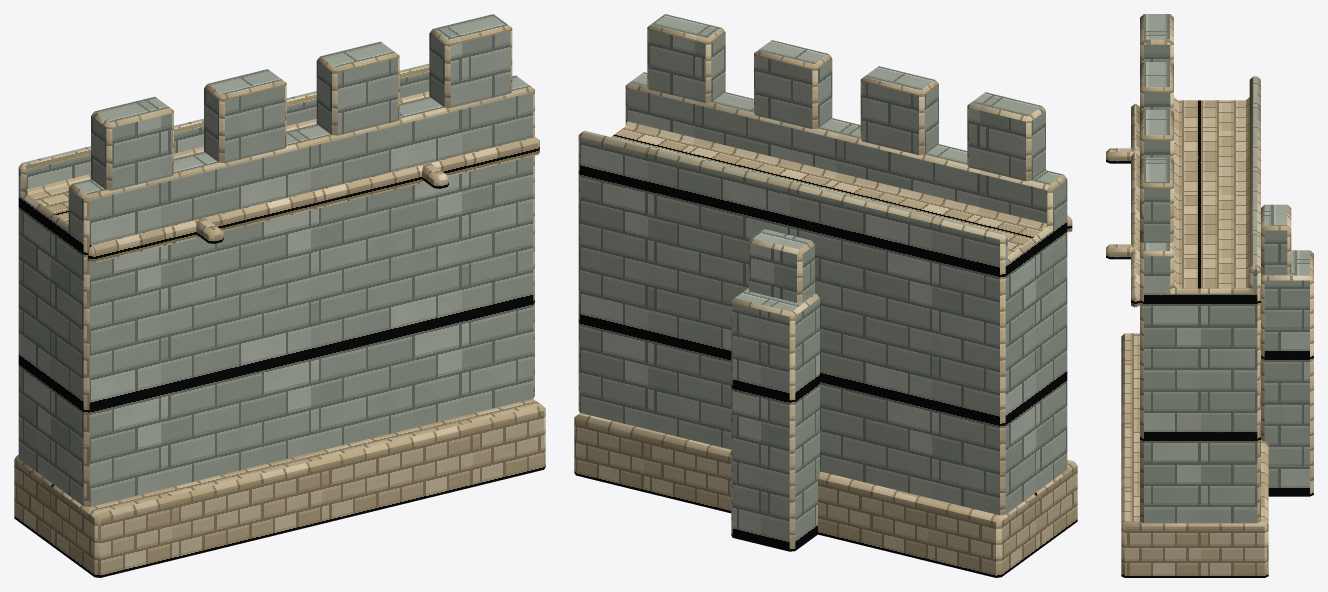
Rendered from town_wall_2.glb.
3 renders of one model, left to right at view 1: azimuth 30°, elevation 25°; view 2: azimuth 150°, elevation 25°; view 3: azimuth 270°, elevation 25°, orthographic. The views are drawn at different scales.
Parts seen in each view (by area): view 1: town_wall_3; view 2: town_wall_3; view 3: town_wall_3.
Part boxes in pixels (x1,y1,x2,y2): town_wall_3: (14, 14, 545, 577); town_wall_3: (574, 14, 1077, 577); town_wall_3: (1106, 14, 1313, 577).
Bounding box in the file's own units: 6 × 5.6 × 2.75.
Materials: 2 (2 with a texture image).
